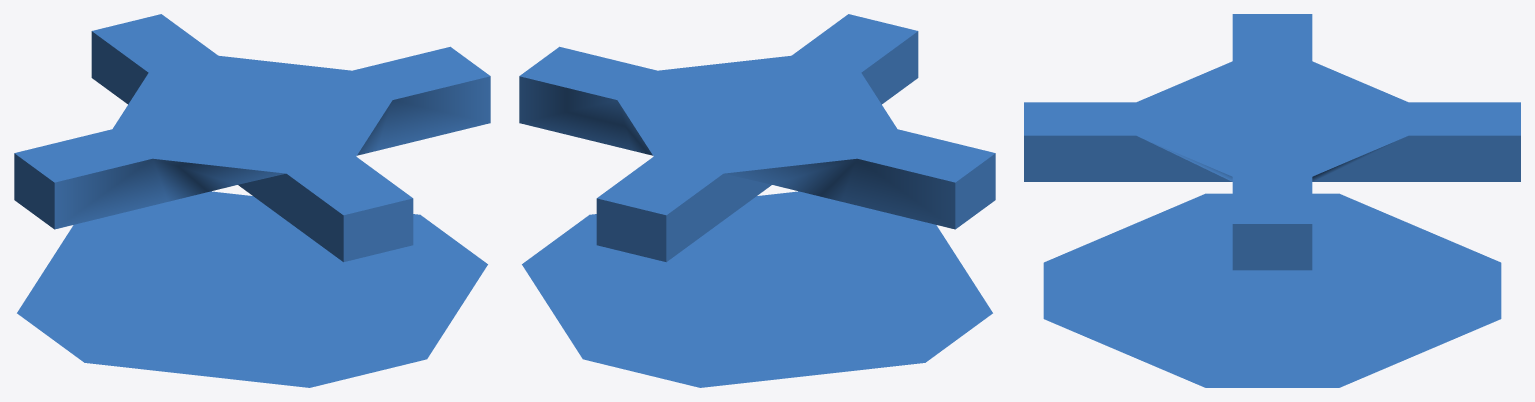
Rendered from reservoir_water.fbx.
The picture shows the model from 3 angles, left to right: view 1: azimuth 30°, elevation 25°; view 2: azimuth 150°, elevation 25°; view 3: azimuth 270°, elevation 25°; orthographic projection.
Visible parts, largest first — view 1: polySurface329; view 2: polySurface329; view 3: polySurface329.
Boxes of the visible parts, left/top/right/bottom form: polySurface329: left=14, top=14, right=490, bottom=387; polySurface329: left=519, top=14, right=995, bottom=387; polySurface329: left=1024, top=14, right=1520, bottom=387.
Size of the model in its own units: 100 by 38.15 by 100.
Materials: 1 (1 with a texture image).
